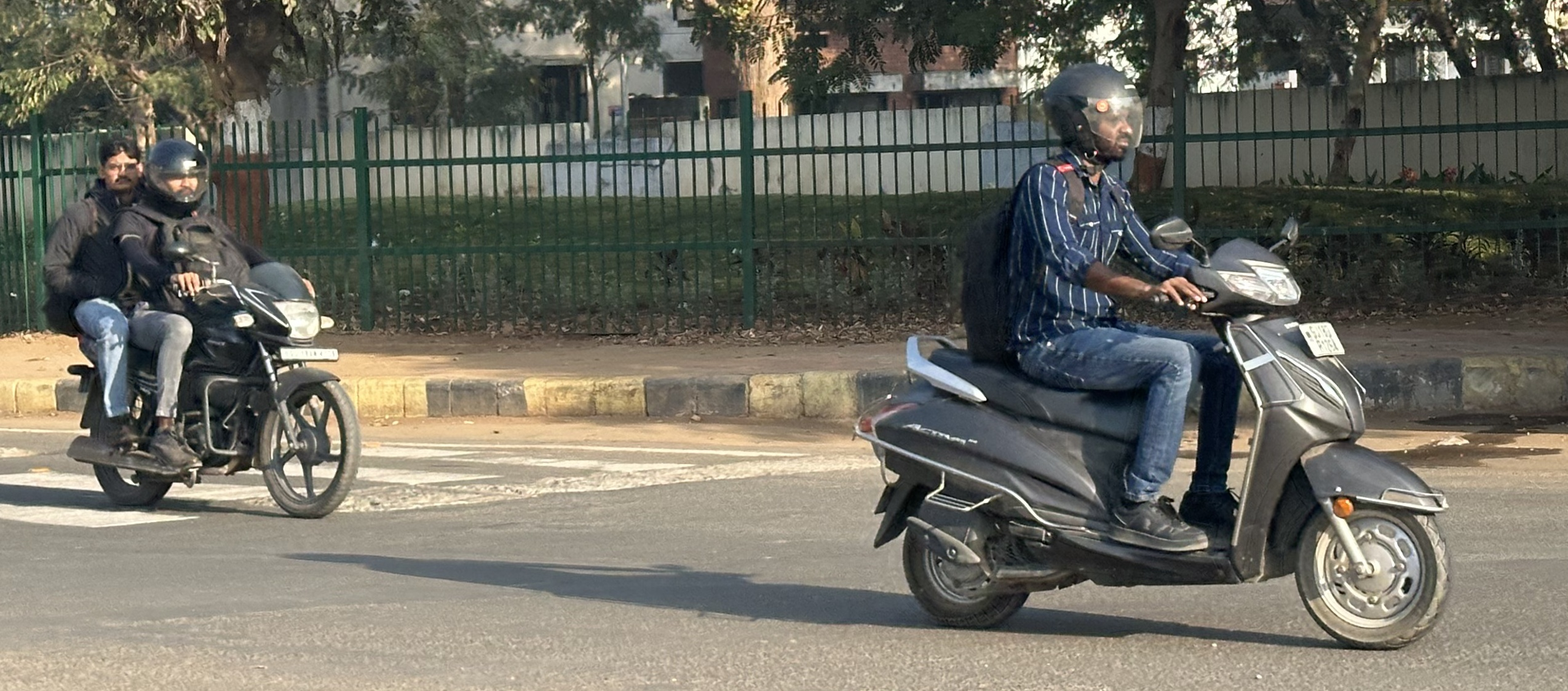BikeWithRider: (844, 55, 1462, 653), (30, 122, 376, 523)
Helmet: (1031, 58, 1155, 172), (135, 133, 215, 215)
NoHelmet: (86, 132, 149, 202)
